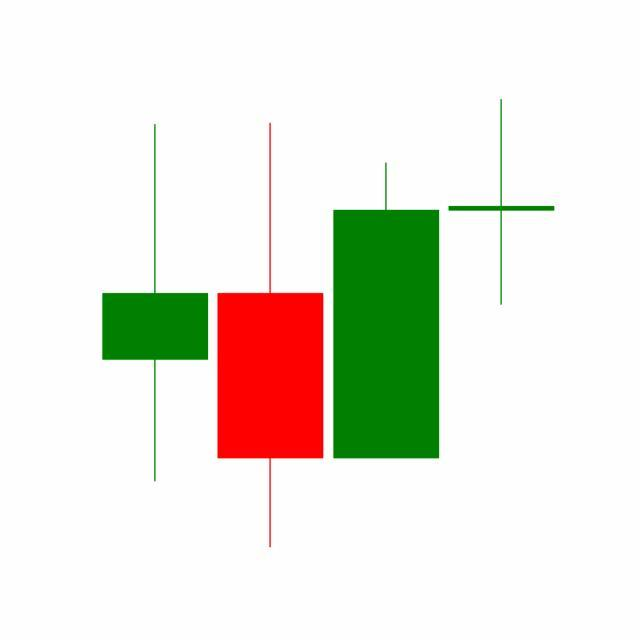Marubozu: (329, 159, 445, 462)
